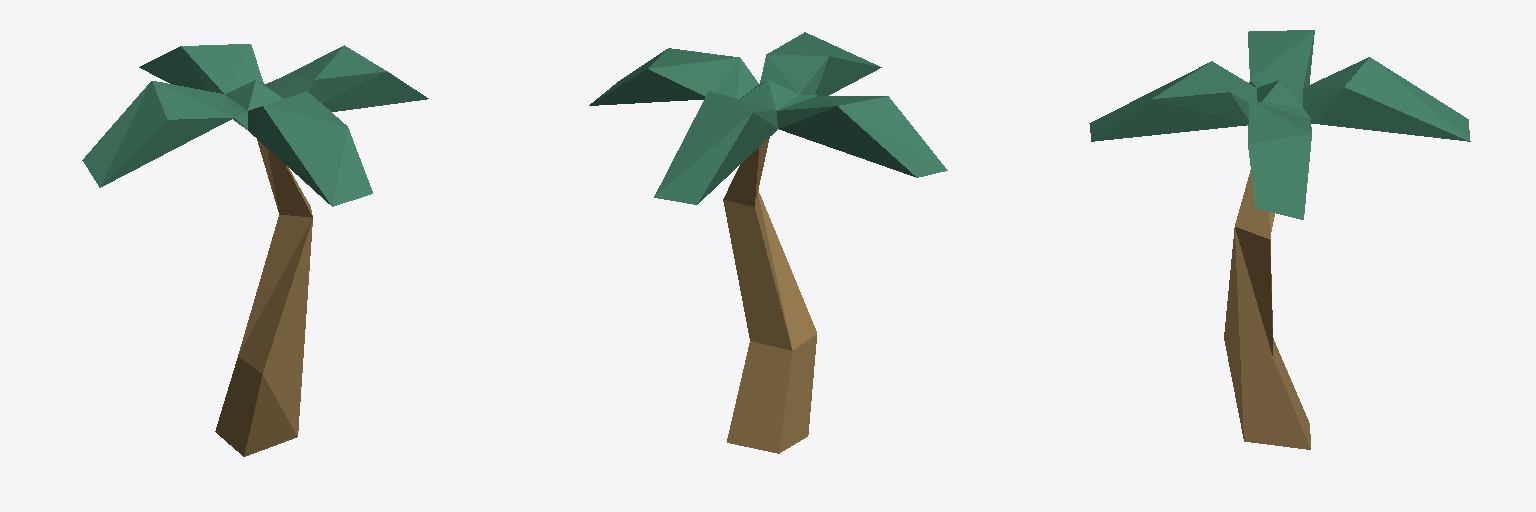
Rendered from naturePack_061.obj.
3 renders of one model, left to right at view 1: azimuth 30°, elevation 25°; view 2: azimuth 150°, elevation 25°; view 3: azimuth 270°, elevation 25°, orthographic.
Parts seen in each view (by area): view 1: naturePack_061; view 2: naturePack_061; view 3: naturePack_061.
Part boxes in pixels (bbox=[...]): naturePack_061: bbox=[82, 44, 428, 456]; naturePack_061: bbox=[589, 32, 947, 453]; naturePack_061: bbox=[1089, 30, 1470, 449].
Bounding box in the file's own units: 3.16 × 3.31 × 3.1.